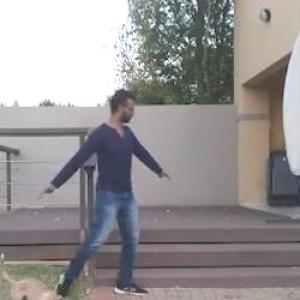land: (28, 85, 175, 299)
